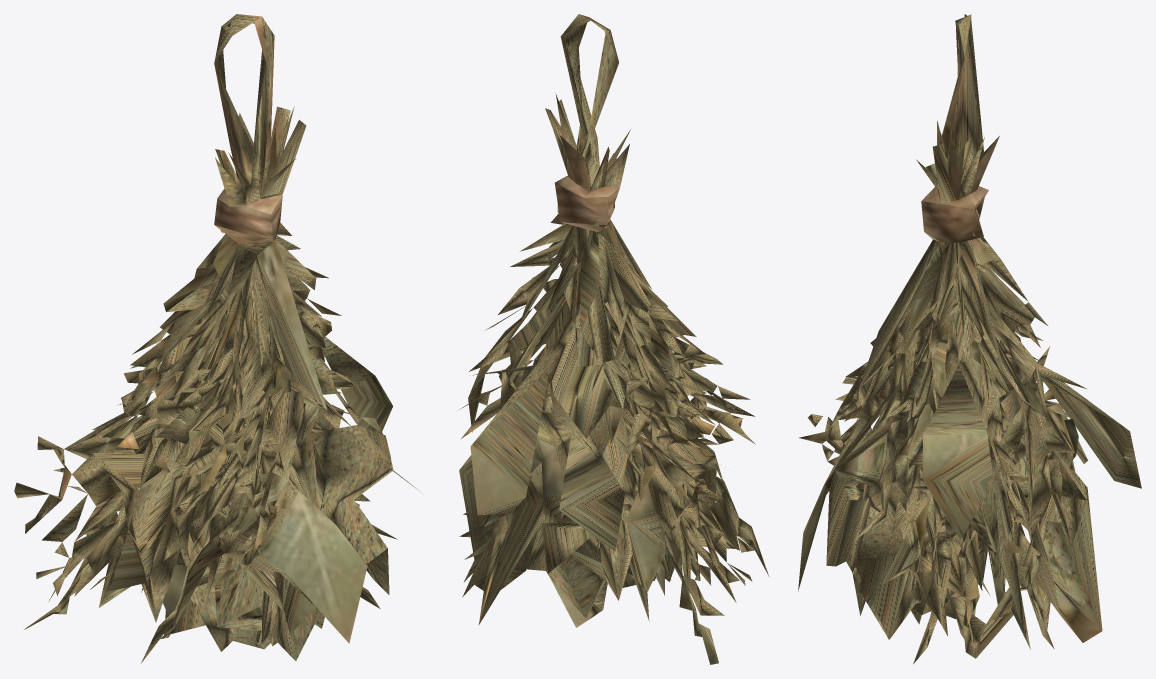
The picture shows the model from 3 angles, left to right: view 1: azimuth 30°, elevation 25°; view 2: azimuth 150°, elevation 25°; view 3: azimuth 270°, elevation 25°; orthographic projection. The views are drawn at different scales.
Parts seen in each view (by area): view 1: geometry_0; view 2: geometry_0; view 3: geometry_0.
Boxes of the visible parts, x1,y1,x2,y2 form: geometry_0: (14, 14, 422, 663); geometry_0: (459, 14, 769, 664); geometry_0: (798, 14, 1141, 664).
Size of the model in its own units: 0.3148 by 0.5822 by 0.2975.
1 material, 1 textured.
